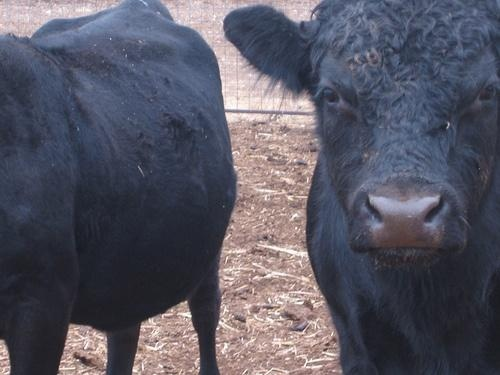cow: (220, 2, 500, 375), (1, 2, 240, 375)
